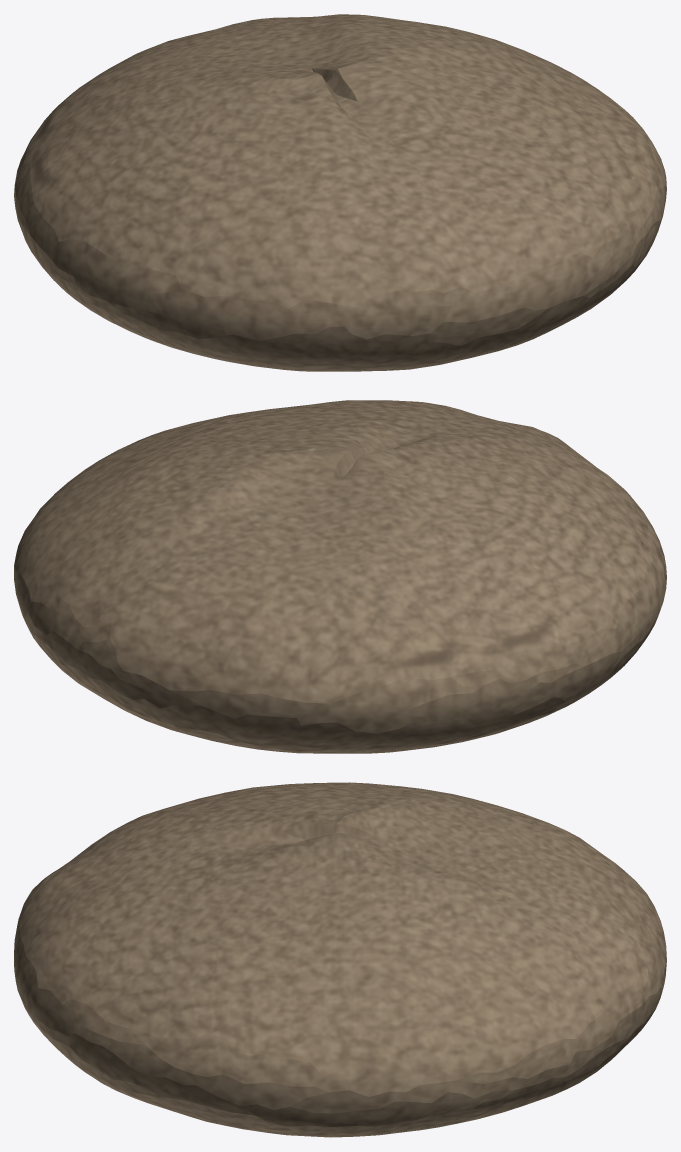
The model's file is tex_mesh.glb.
3 views of the same model, one above another, from view 1: azimuth 30°, elevation 25°; view 2: azimuth 150°, elevation 25°; view 3: azimuth 270°, elevation 25° (orthographic).
Parts seen in each view (by area): view 1: world; view 2: world; view 3: world.
Boxes of the visible parts, x1,y1,x2,y2 form: world: (14,14,666,371); world: (14,400,666,753); world: (14,782,666,1137).
Size of the model in its own units: 0.12 by 0.0427 by 0.1201.
1 material, 1 textured.
